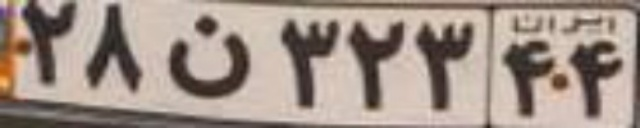2: (342, 18, 408, 111), (18, 0, 80, 86)
3: (273, 17, 339, 108), (414, 18, 474, 113)
4: (564, 36, 629, 119), (502, 38, 556, 116)
8: (83, 1, 145, 93)
non: (165, 13, 256, 99)
